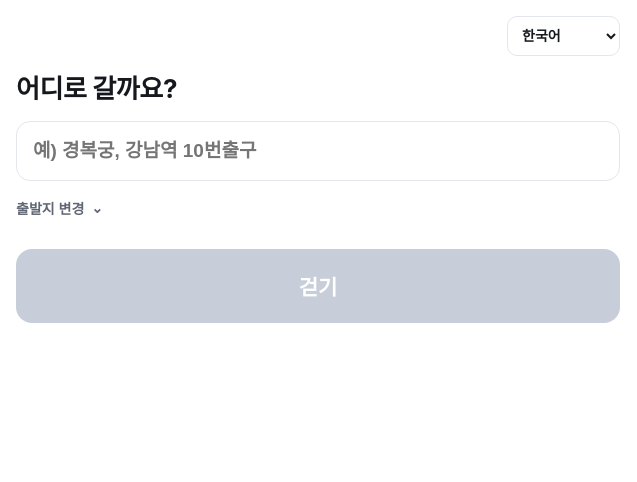
Test case: 진도식당 동명 장소 검색 표시 › 안내용 GPS 없이 서로 다른 주소 2개를 표시하며 가짜 13,000km 거리는 표시하지 않는다
Type "진도식당" into the search field named "목적지" at (318, 151), box [16,121,620,181]
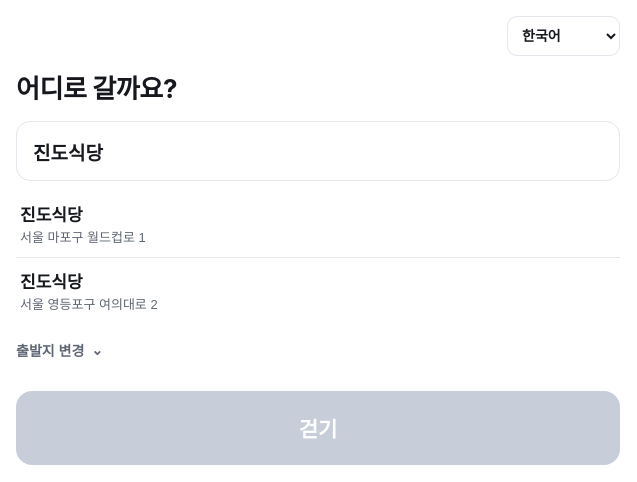
Check: the text "서울 마포구 월드컵로 1" is shown, box [20,230,146,245]
Check: the text "서울 영등포구 여의대로 2" is shown, box [20,296,158,312]
